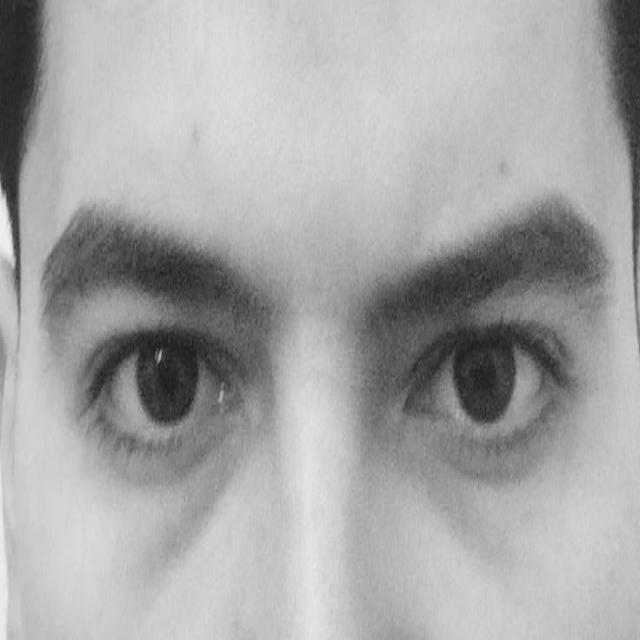real: (60, 236, 606, 528)
